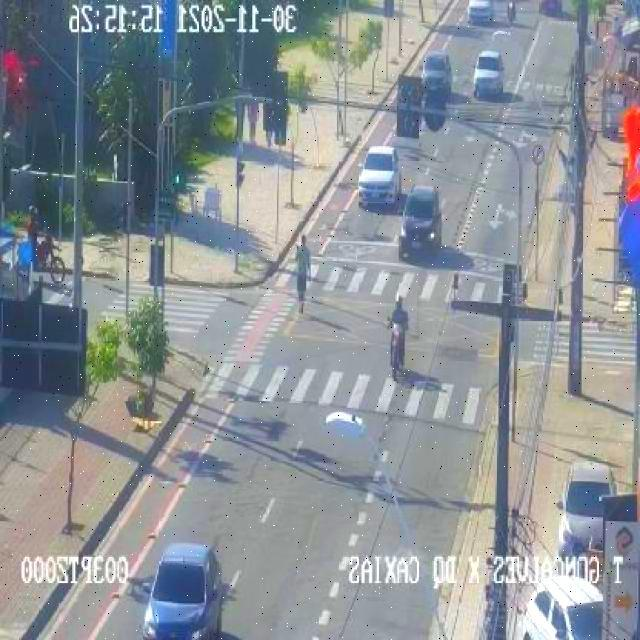Car: (139, 542, 226, 640), (517, 574, 605, 638), (559, 462, 619, 554), (401, 186, 444, 255), (359, 145, 403, 207), (473, 50, 506, 98), (421, 52, 452, 94), (467, 0, 493, 24), (540, 0, 561, 16)
